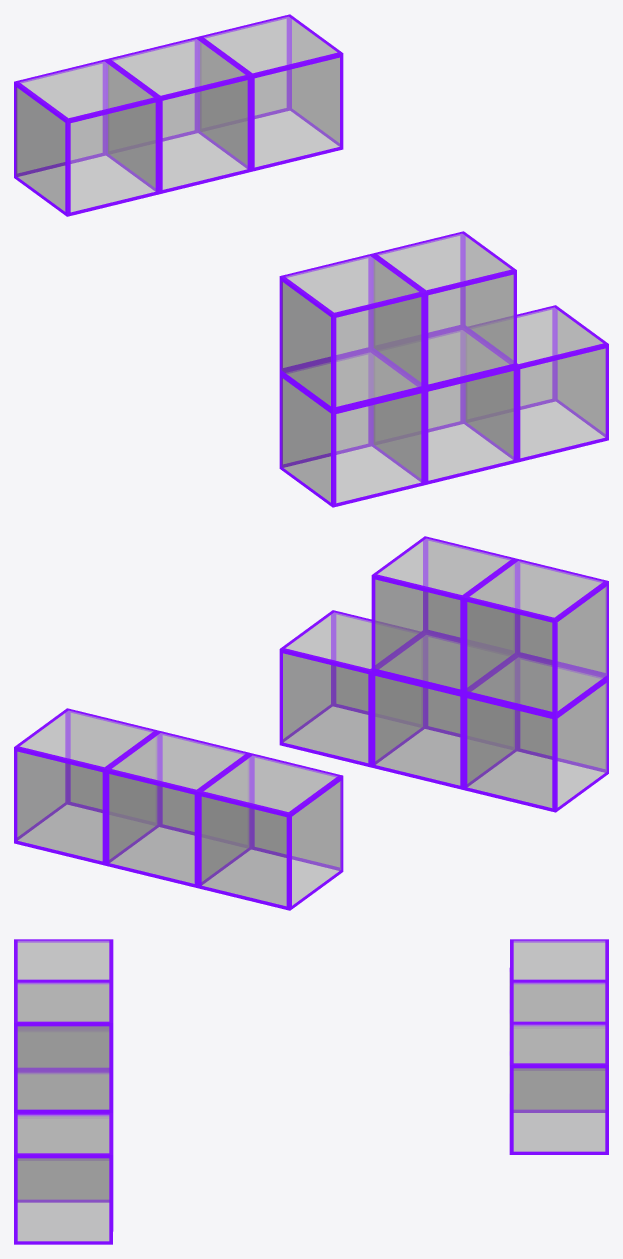
Rendered from (3)M XWall.fbx.
3 renders of one model, top to bottom at view 1: azimuth 30°, elevation 25°; view 2: azimuth 150°, elevation 25°; view 3: azimuth 270°, elevation 25°, orthographic. The views are drawn at different scales.
Parts seen in each view (by area): view 1: Wall.002, Wall.008, Wall.001, Wall.006, Wall.009, Wall.010, Wall.007, Wall.005; view 2: Wall.008, Wall.002, Wall.001, Wall.009, Wall.006, Wall.010, Wall.007, Wall.005; view 3: Wall.006, Wall.007, Wall.010, Wall.002, Wall.009, Wall.008, Wall.005.
Part boxes in pixels (left/top/right/bottom): Wall.002: left=279, top=253, right=424, bottom=411; Wall.008: left=14, top=59, right=159, bottom=216; Wall.001: left=279, top=350, right=424, bottom=507; Wall.006: left=372, top=231, right=516, bottom=388; Wall.009: left=106, top=37, right=251, bottom=194; Wall.010: left=198, top=14, right=343, bottom=171; Wall.007: left=463, top=305, right=608, bottom=462; Wall.005: left=371, top=327, right=516, bottom=484; Wall.008: left=198, top=753, right=343, bottom=910; Wall.002: left=463, top=558, right=608, bottom=716; Wall.001: left=463, top=655, right=608, bottom=812; Wall.009: left=106, top=730, right=251, bottom=888; Wall.006: left=371, top=536, right=516, bottom=693; Wall.010: left=14, top=708, right=158, bottom=865; Wall.007: left=279, top=610, right=424, bottom=767; Wall.005: left=371, top=632, right=516, bottom=789; Wall.006: left=14, top=981, right=113, bottom=1112; Wall.007: left=14, top=1113, right=113, bottom=1244; Wall.010: left=509, top=1023, right=608, bottom=1154; Wall.002: left=14, top=939, right=113, bottom=1070; Wall.009: left=509, top=981, right=608, bottom=1112; Wall.008: left=509, top=939, right=608, bottom=1050; Wall.005: left=17, top=1071, right=113, bottom=1190.
Size of the model in its own units: 600 by 400 by 1200.
